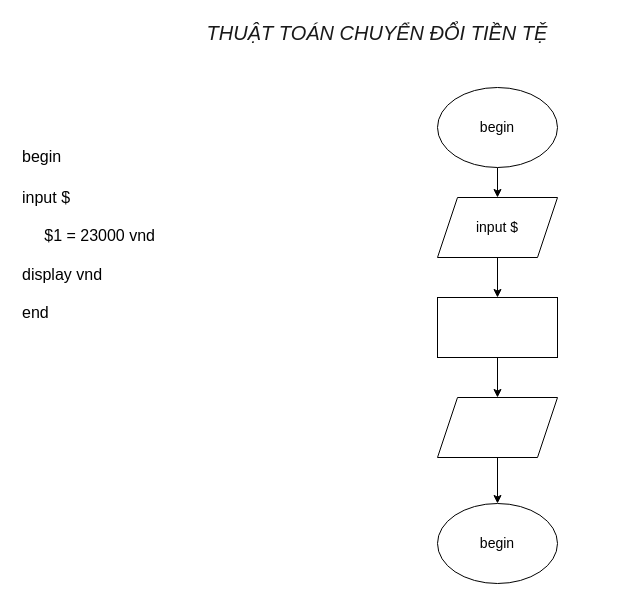
The diagram is 634 pixels wide and 601 high, and some of its shapes have lost their labels. Here are the shapes that lost their labels. From the top down, the centre of each, then its label:
At (x=497, y=327): "$1 = 23000 vnd".
At (x=497, y=427): "display vnd".
